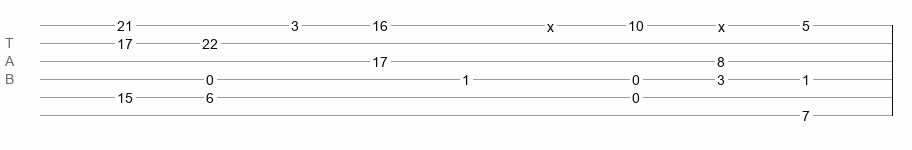0: (206, 72, 214, 82), (632, 90, 640, 100), (632, 72, 640, 82)
1: (462, 72, 470, 82), (802, 72, 810, 82)
10: (628, 18, 644, 28)
15: (117, 90, 133, 100)
16: (372, 18, 388, 28)
17: (117, 36, 133, 46), (372, 54, 388, 64)
21: (117, 18, 133, 28)
22: (202, 36, 218, 46)
3: (291, 18, 299, 28), (717, 72, 725, 82)
5: (802, 18, 810, 28)
6: (206, 90, 214, 100)
7: (802, 108, 810, 118)
8: (717, 54, 725, 64)
x: (547, 19, 554, 27), (718, 19, 725, 27)
